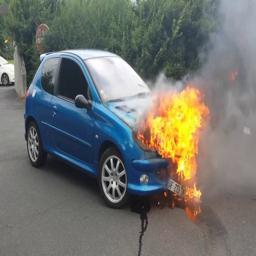fire: (138, 85, 211, 221)
